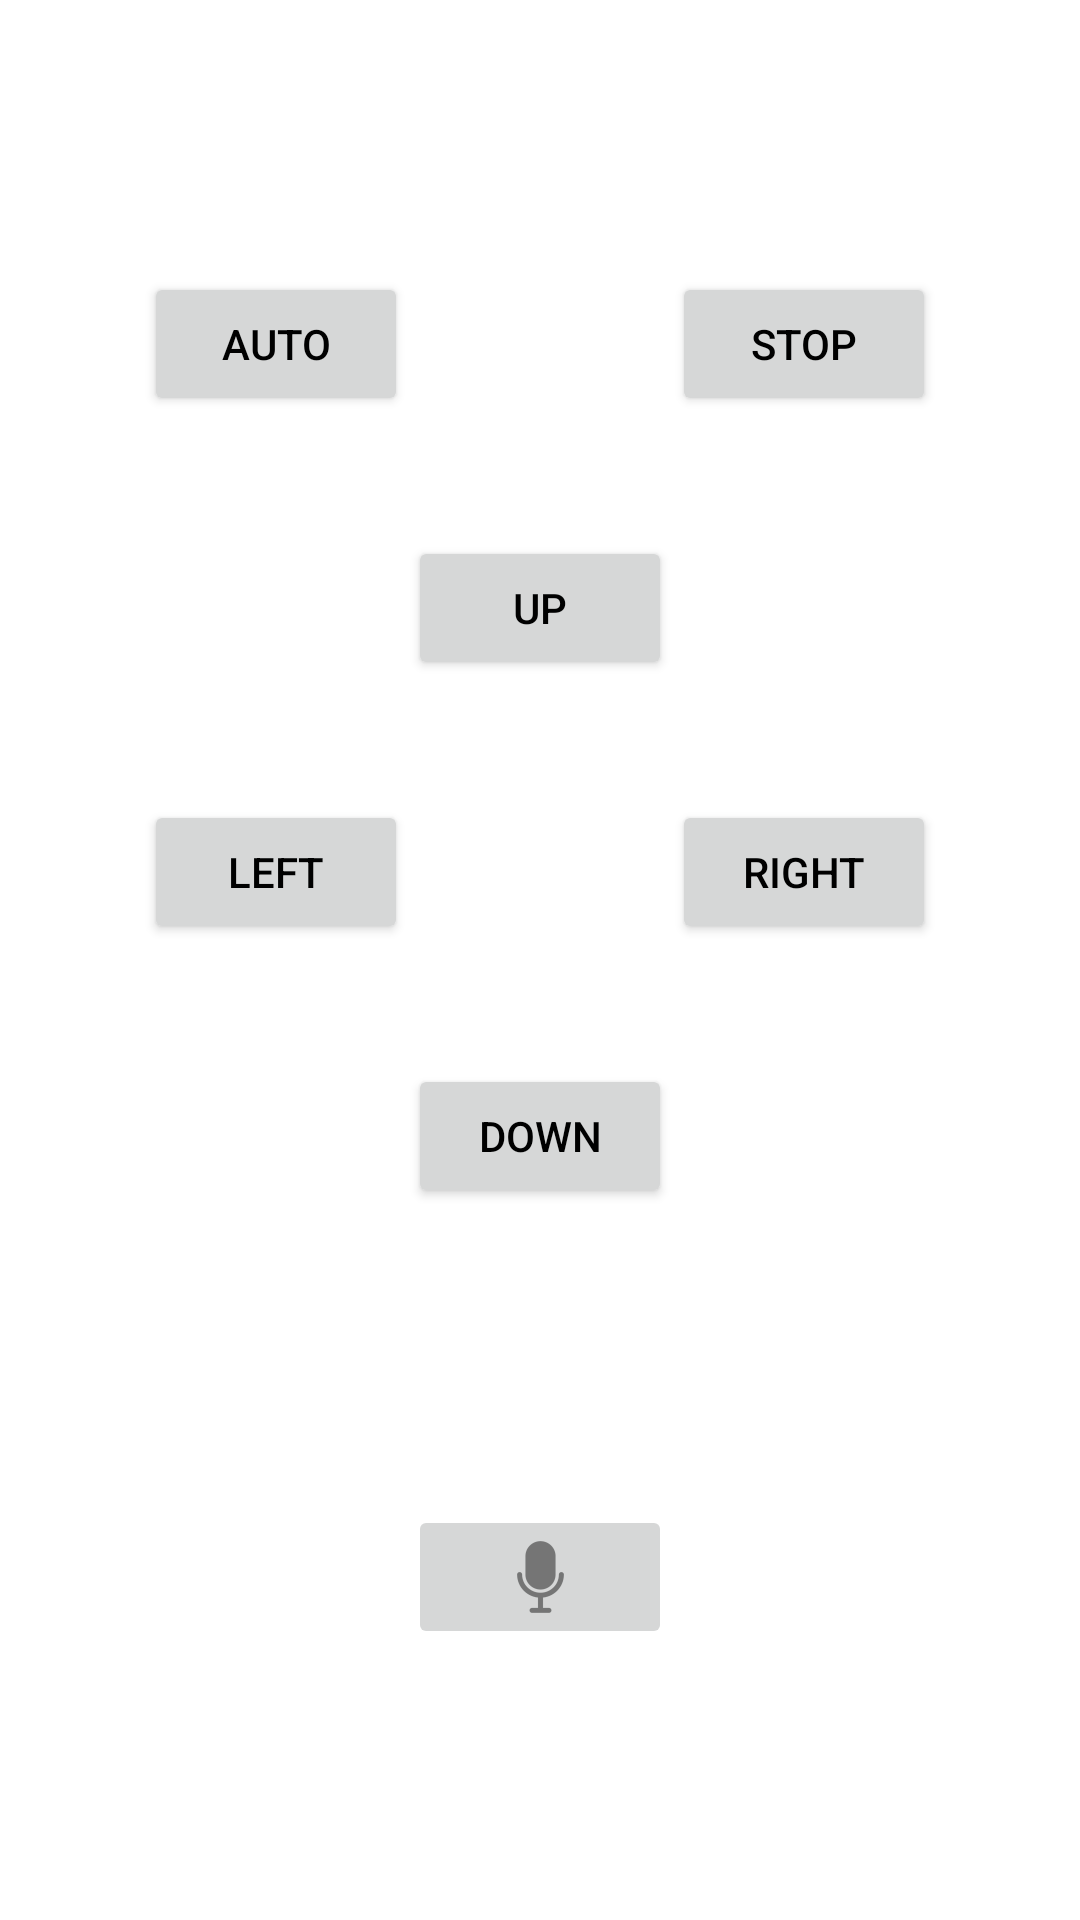

Where to tap for icons on this 1080×1920 app screen, as point (x, y):
Mic: point (540, 1577)
